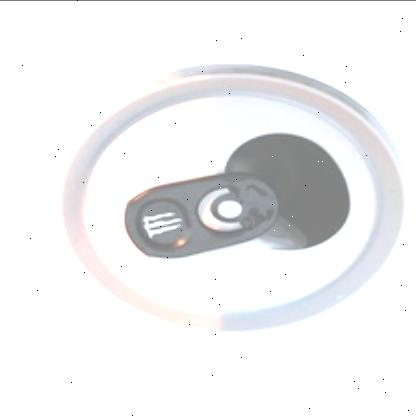Can: (53, 64, 411, 334)
